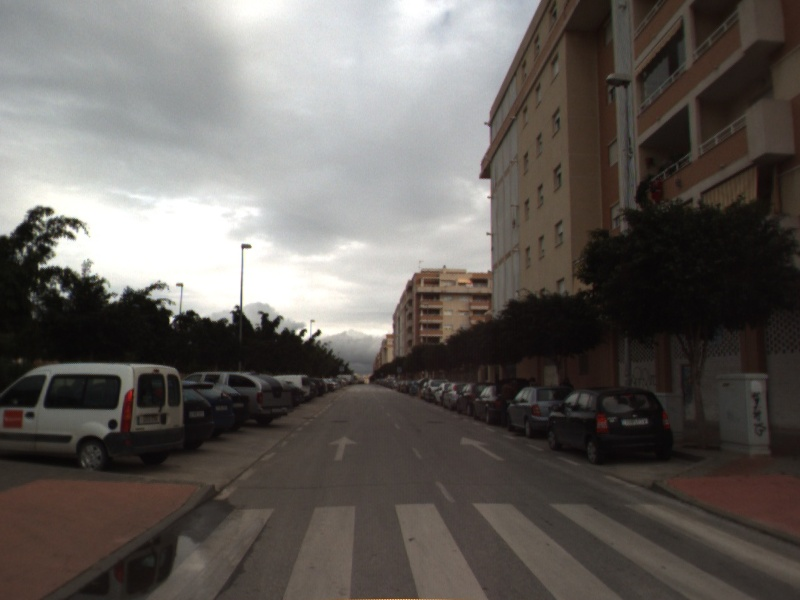STRAIGHT: (458, 435, 507, 463), (327, 433, 360, 463)
